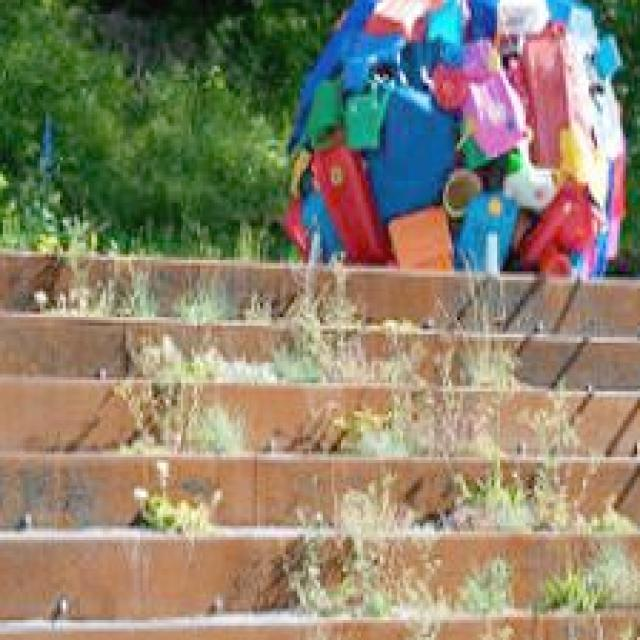upstair: (21, 235, 615, 601)
